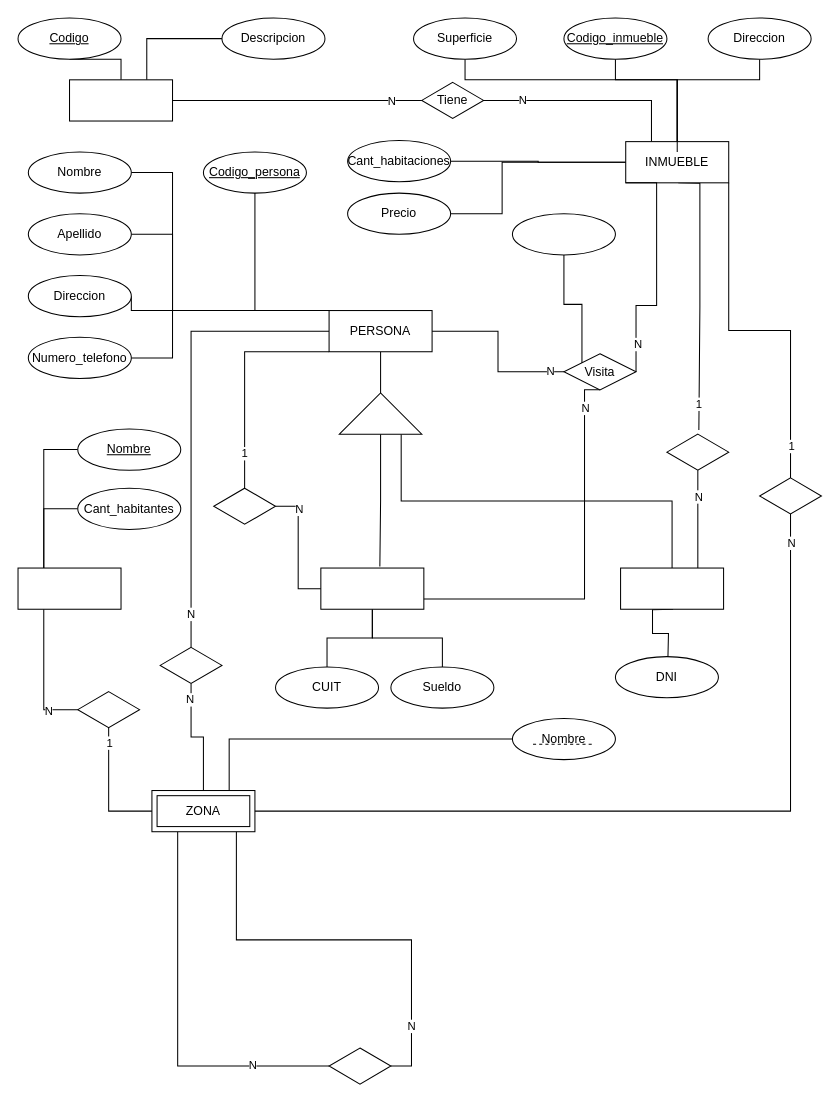
This 839x1102 diagram has some shape labels left out. The shapes that lost their labels are listed below. From the top down, each one's centre as x and y in pixels, then its label:
(x=120, y=100): CARACTERISTICA
(x=563, y=234): FECHA+HORA
(x=380, y=413): IS_A
(x=697, y=451): EsDueño
(x=244, y=505): Atiende
(x=790, y=495): Ubicación
(x=69, y=588): POBLACION
(x=372, y=588): VENDEDOR
(x=672, y=588): PROPIETARIOS
(x=190, y=664): ZonaInteres
(x=108, y=709): Esta en
(x=359, y=1065): Limitan
